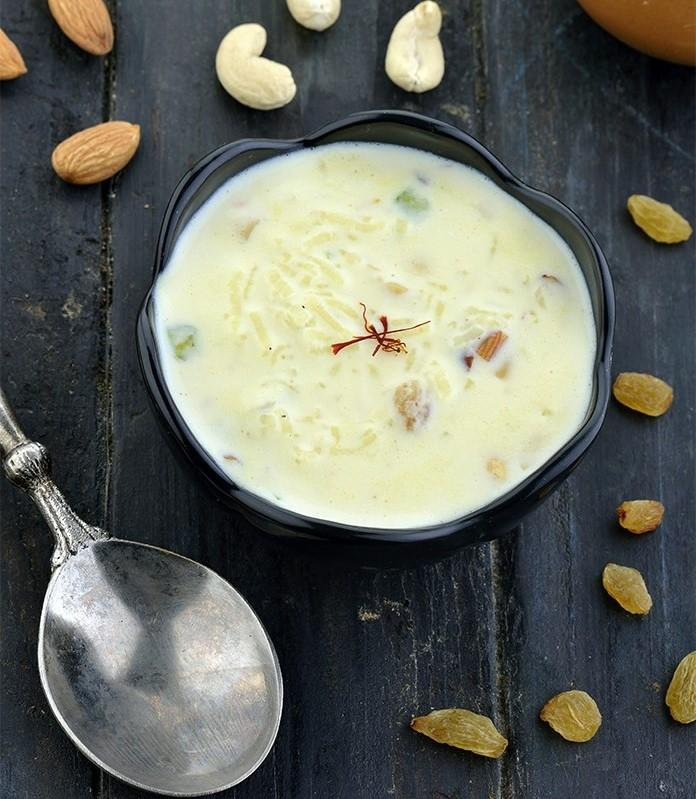Kheer: (156, 146, 594, 529)
